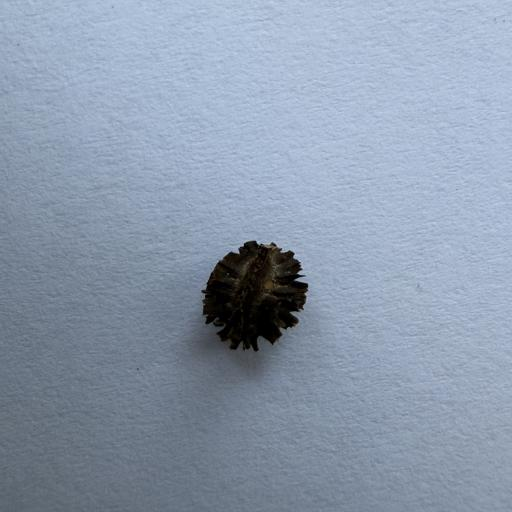papaya_seed: (166, 210, 349, 367)
